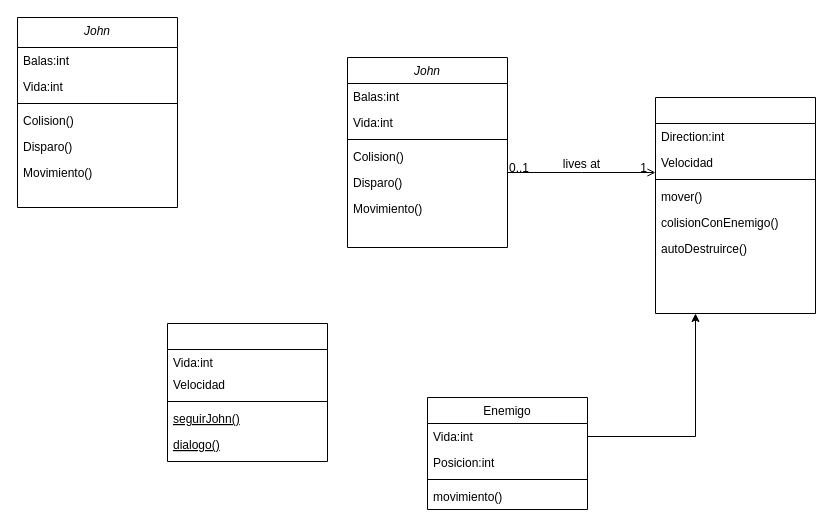
Image size: 833x530. Some labels were removed from this diagram. The shapes that lost their labels are listed below. From the top down, each one's box as (x1, y1, x2, y2) in pixels, then its label:
(654, 96, 816, 314): Balas
(166, 322, 328, 462): Matilda
